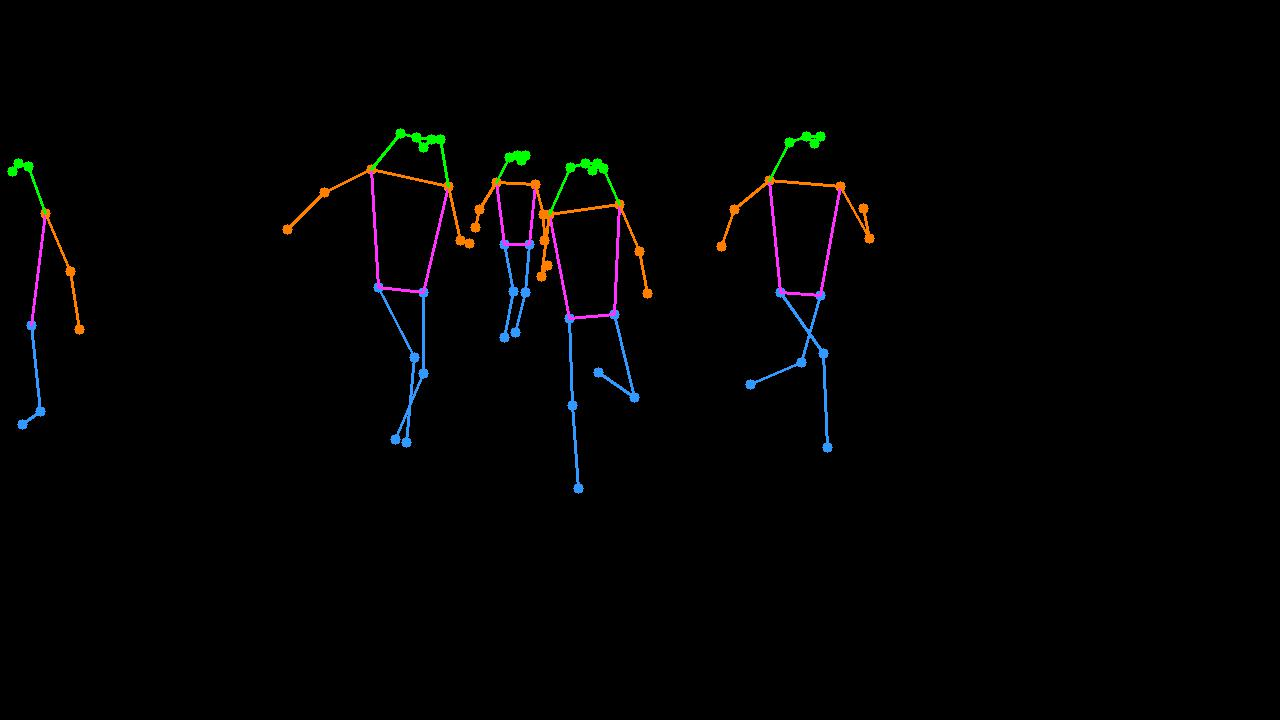normal: (312, 89, 488, 525), (705, 107, 879, 482), (532, 136, 662, 525), (471, 136, 557, 368)
